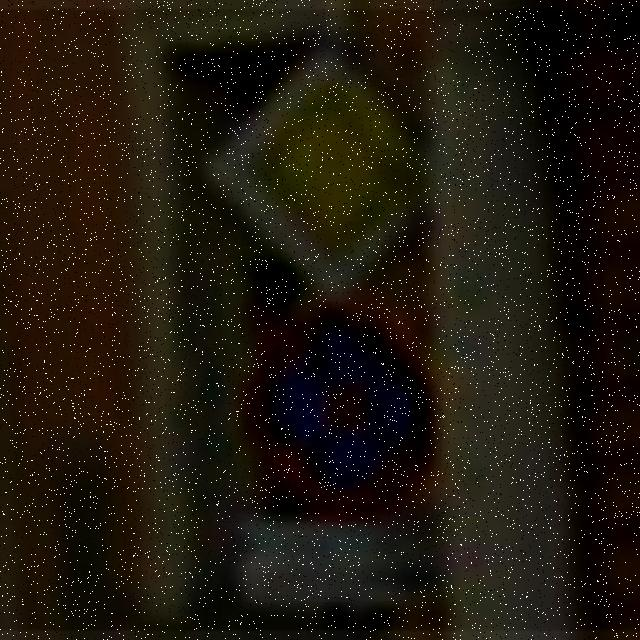Droga z pierwszenstwem: (195, 39, 427, 304)
Zakaz zatrzymywania sie: (236, 303, 440, 519)
